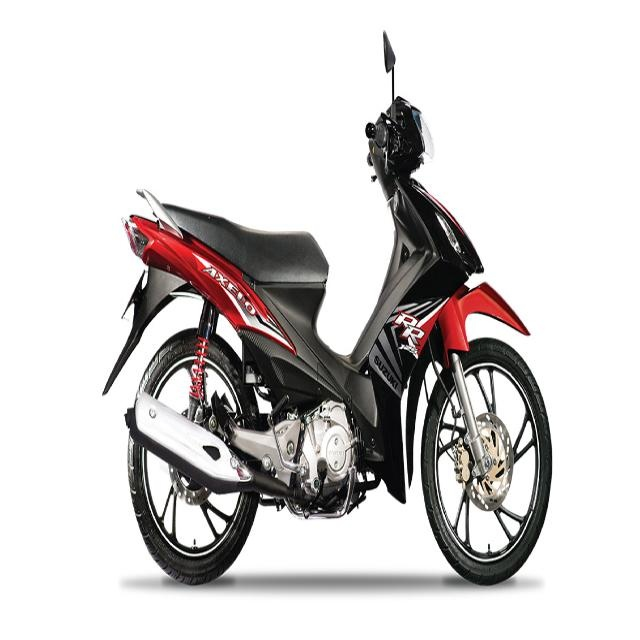Motorcycle: (101, 17, 552, 593)
